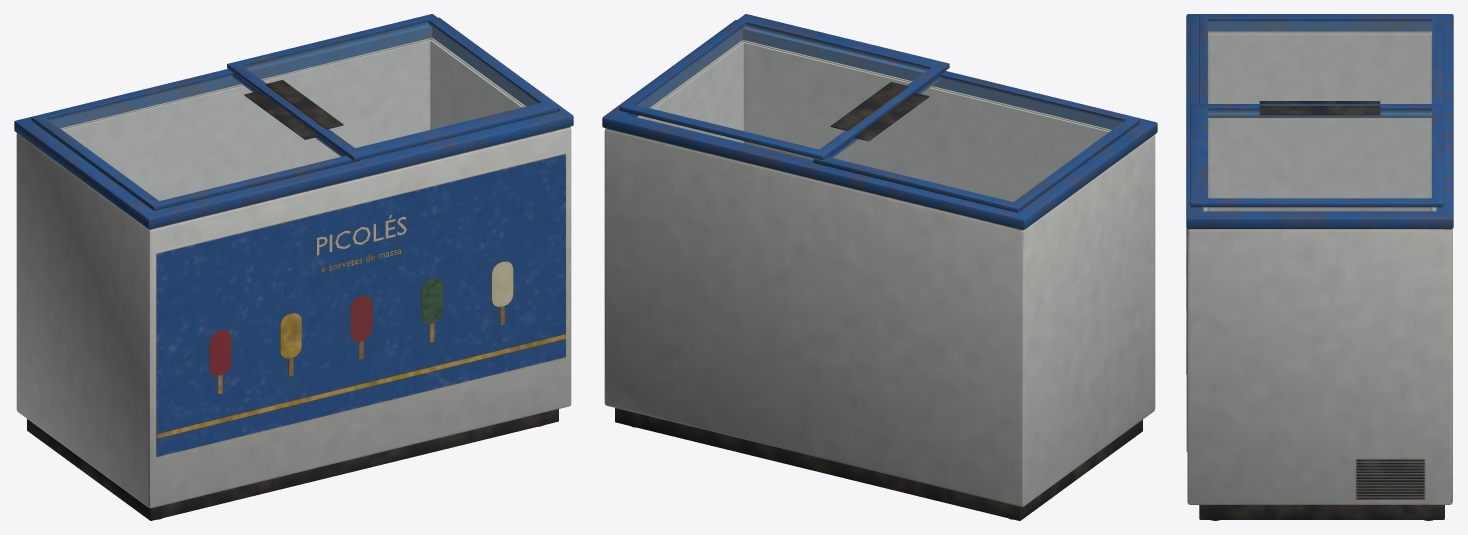
File: freezer_sorvete.glb
3 views of the same model, side by side, from view 1: azimuth 30°, elevation 25°; view 2: azimuth 150°, elevation 25°; view 3: azimuth 270°, elevation 25° (orthographic).
Visible parts, largest first — view 1: freezer, vidro_tampa_1, vidro_tampa_2, tampa_2, tampa_1; view 2: freezer, vidro_tampa_1, vidro_tampa_2, tampa_2, tampa_1; view 3: freezer, vidro_tampa_2, vidro_tampa_1, tampa_2, tampa_1.
Part boxes in pixels (x1,y1,x2,y2): freezer: (14, 17, 573, 520); vidro_tampa_1: (50, 76, 340, 200); vidro_tampa_2: (247, 23, 537, 147); tampa_2: (227, 14, 559, 161); tampa_1: (31, 69, 359, 210); freezer: (602, 20, 1157, 520); vidro_tampa_1: (832, 78, 1121, 201); vidro_tampa_2: (638, 25, 926, 148); tampa_2: (619, 14, 949, 159); tampa_1: (813, 72, 1139, 212); freezer: (1186, 14, 1453, 520); vidro_tampa_2: (1208, 111, 1431, 197); vidro_tampa_1: (1208, 21, 1431, 103); tampa_2: (1190, 104, 1443, 207); tampa_1: (1199, 14, 1443, 117).
Size of the model in its own units: 1.21 by 0.88 by 0.6643.
Materials: 4 (2 with a texture image).
